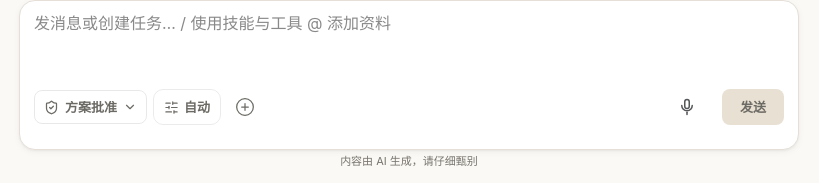
Test: ChatComposer 斜杠命令 › /ppt 用 Enter 选中只插入文本，不触发发送与建会话
The width and height of the screenshot is (819, 183).
Type "/ppt" into the text box at (409, 37), box x1=34 y1=11 x2=784 y2=62
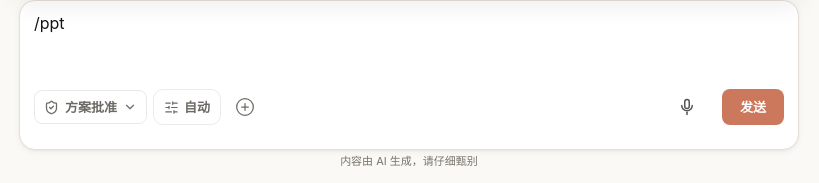
Press Enter in the text box, box x1=34 y1=11 x2=784 y2=62
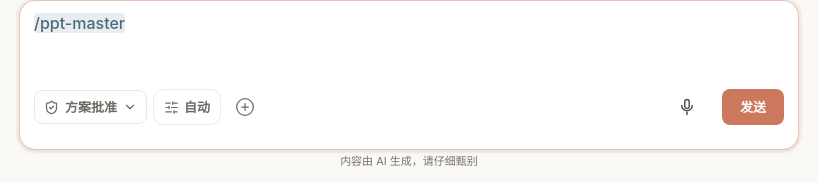
Now the text box holds "/ppt-master ", box x1=34 y1=11 x2=784 y2=62
